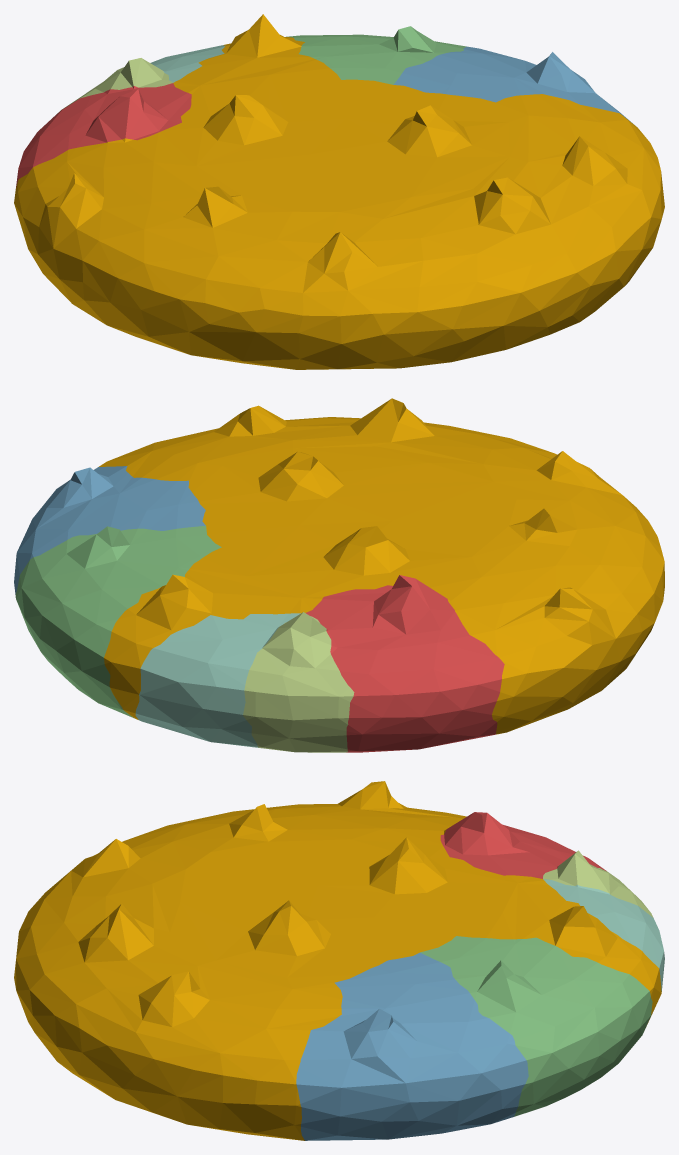
The model's file is fractured_56_6pcs.glb.
3 renders of one model, top to bottom at view 1: azimuth 30°, elevation 25°; view 2: azimuth 150°, elevation 25°; view 3: azimuth 270°, elevation 25°, orthographic.
Visible parts, largest first — view 1: piece_0.obj, piece_1.obj, piece_2.obj, piece_3.obj, piece_5.obj, piece_4.obj; view 2: piece_0.obj, piece_1.obj, piece_3.obj, piece_4.obj, piece_5.obj, piece_2.obj; view 3: piece_0.obj, piece_2.obj, piece_3.obj, piece_1.obj, piece_4.obj, piece_5.obj.
Part boxes in pixels (<box>): piece_0.obj: <box>14,14,664,369</box>; piece_1.obj: <box>16,83,191,187</box>; piece_2.obj: <box>393,46,632,123</box>; piece_3.obj: <box>286,26,468,84</box>; piece_5.obj: <box>57,58,172,113</box>; piece_4.obj: <box>150,45,225,82</box>; piece_0.obj: <box>99,398,664,734</box>; piece_1.obj: <box>306,575,504,752</box>; piece_3.obj: <box>15,525,221,718</box>; piece_4.obj: <box>135,613,300,747</box>; piece_5.obj: <box>243,612,354,752</box>; piece_2.obj: <box>14,466,205,594</box>; piece_0.obj: <box>14,781,661,1140</box>; piece_2.obj: <box>296,952,528,1140</box>; piece_3.obj: <box>420,936,652,1116</box>; piece_1.obj: <box>440,812,606,878</box>; piece_4.obj: <box>543,879,664,991</box>; piece_5.obj: <box>543,850,653,917</box>.
Bounding box in the file's own units: 0.9983 × 0.2496 × 1.
